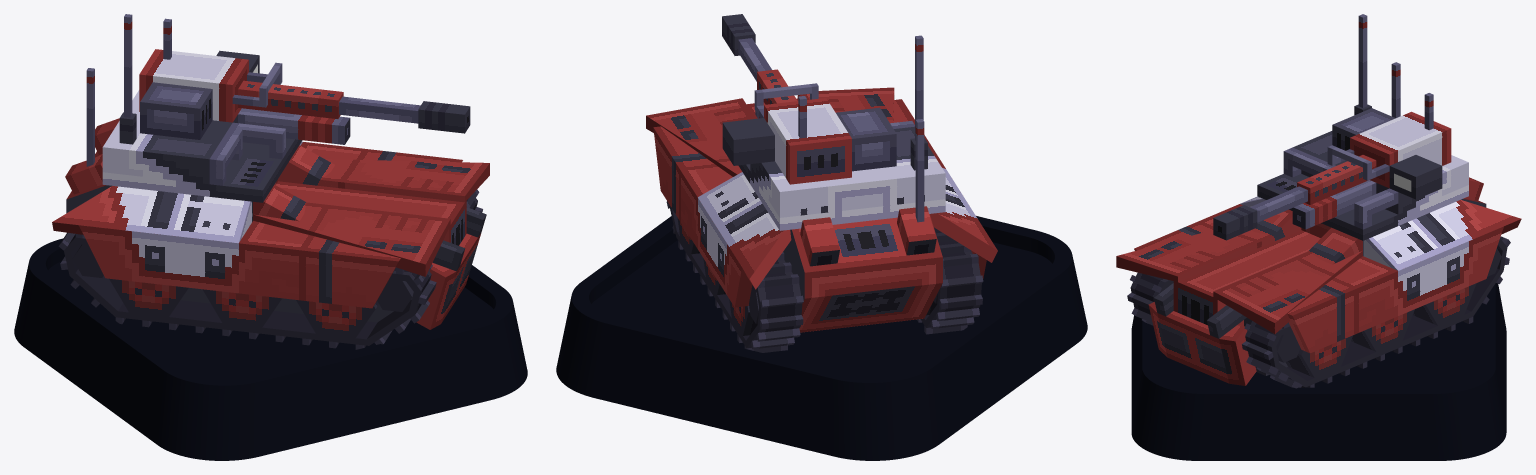
The model's file is rattler_drone_diorama.glb.
The picture shows the model from 3 angles, left to right: view 1: azimuth 30°, elevation 25°; view 2: azimuth 150°, elevation 25°; view 3: azimuth 270°, elevation 25°; orthographic projection. The views are drawn at different scales.
Visible parts, largest first — view 1: Cube, cube.031, cube.032, cube.033, cube.038, cube.006, cube.005, cube.010, cube.011, cube.052, cube.041, cube.012 (+23 smaller); view 2: Cube, cube.006, cube.010, cube.037, cube.036, cube.044, cube.043, cube.048, cube.038, cube.011, cube.032, cube.005 (+15 smaller); view 3: Cube, cube.036, cube.037, cube.038, cube.033, cube.010, cube.027, cube.005, cube.041, cube.006, cube.042, cube.092 (+22 smaller).
Part boxes in pixels (x1,y1,x2,y2): Cube: (14,238,527,460); cube.031: (79,225,399,308); cube.032: (52,186,252,243); cube.033: (253,202,450,276); cube.038: (321,159,489,202); cube.006: (102,90,237,184); cube.005: (102,138,302,202); cube.010: (139,49,248,122); cube.011: (140,82,212,139); cube.052: (115,300,377,345); cube.041: (180,181,424,322); cube.012: (238,80,343,118); Cube: (556,216,1087,460); cube.006: (750,126,945,217); cube.010: (764,98,851,184); cube.037: (698,172,791,289); cube.036: (653,128,752,307); cube.044: (799,283,942,332); cube.043: (786,246,942,298); cube.048: (788,214,942,272); cube.038: (646,98,755,176); cube.011: (836,107,896,171); cube.032: (930,168,997,262); cube.005: (738,164,945,230); Cube: (1131,283,1506,460); cube.036: (1288,226,1503,353); cube.037: (1363,199,1521,270); cube.038: (1213,250,1362,334); cube.033: (1116,230,1272,281); cube.010: (1350,111,1451,188); cube.027: (1157,311,1228,383); cube.005: (1257,174,1468,240); cube.041: (1205,230,1320,375); cube.006: (1293,131,1468,214); cube.042: (1173,271,1243,326); cube.092: (1287,309,1473,386).
Bounding box in the file's own units: 6.34 × 5.42 × 6.34.
4 materials, 3 textured.
